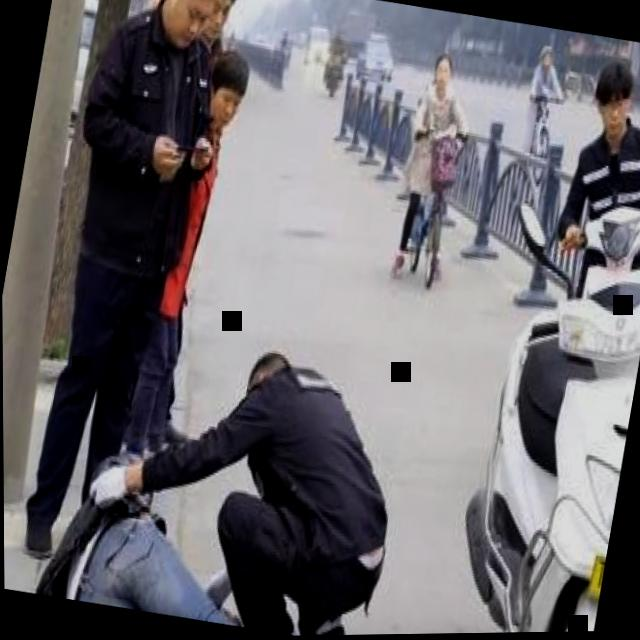Fall-Detected: (25, 427, 340, 640)
